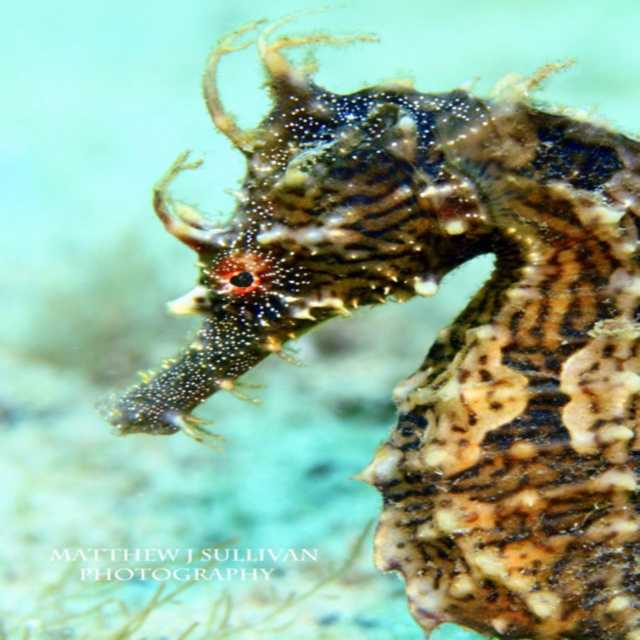Seahorse: (91, 1, 640, 640)
